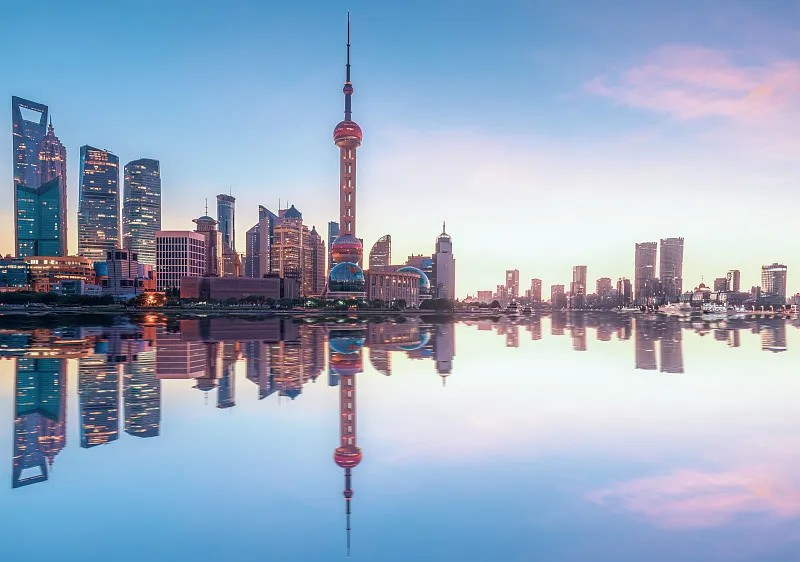Oriental: (330, 10, 363, 265)
